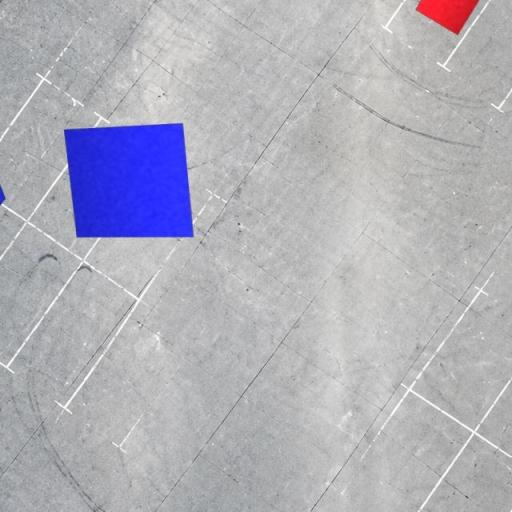BLUE_SQUARE: (64, 122, 194, 238)
RED_SQUARE: (414, 0, 486, 36)
